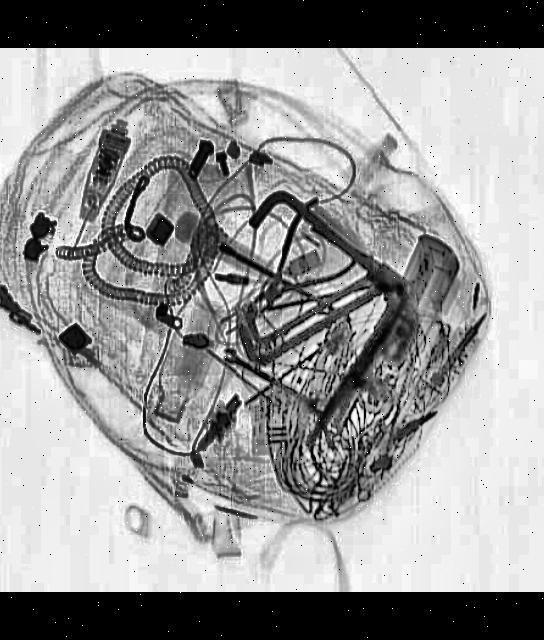Pliers: (217, 194, 371, 340)
Wrench: (216, 342, 312, 410)
